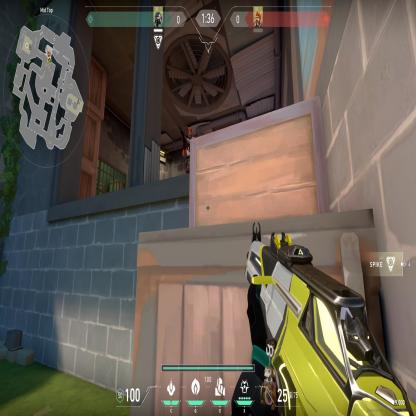enemy: (182, 125, 190, 173)
